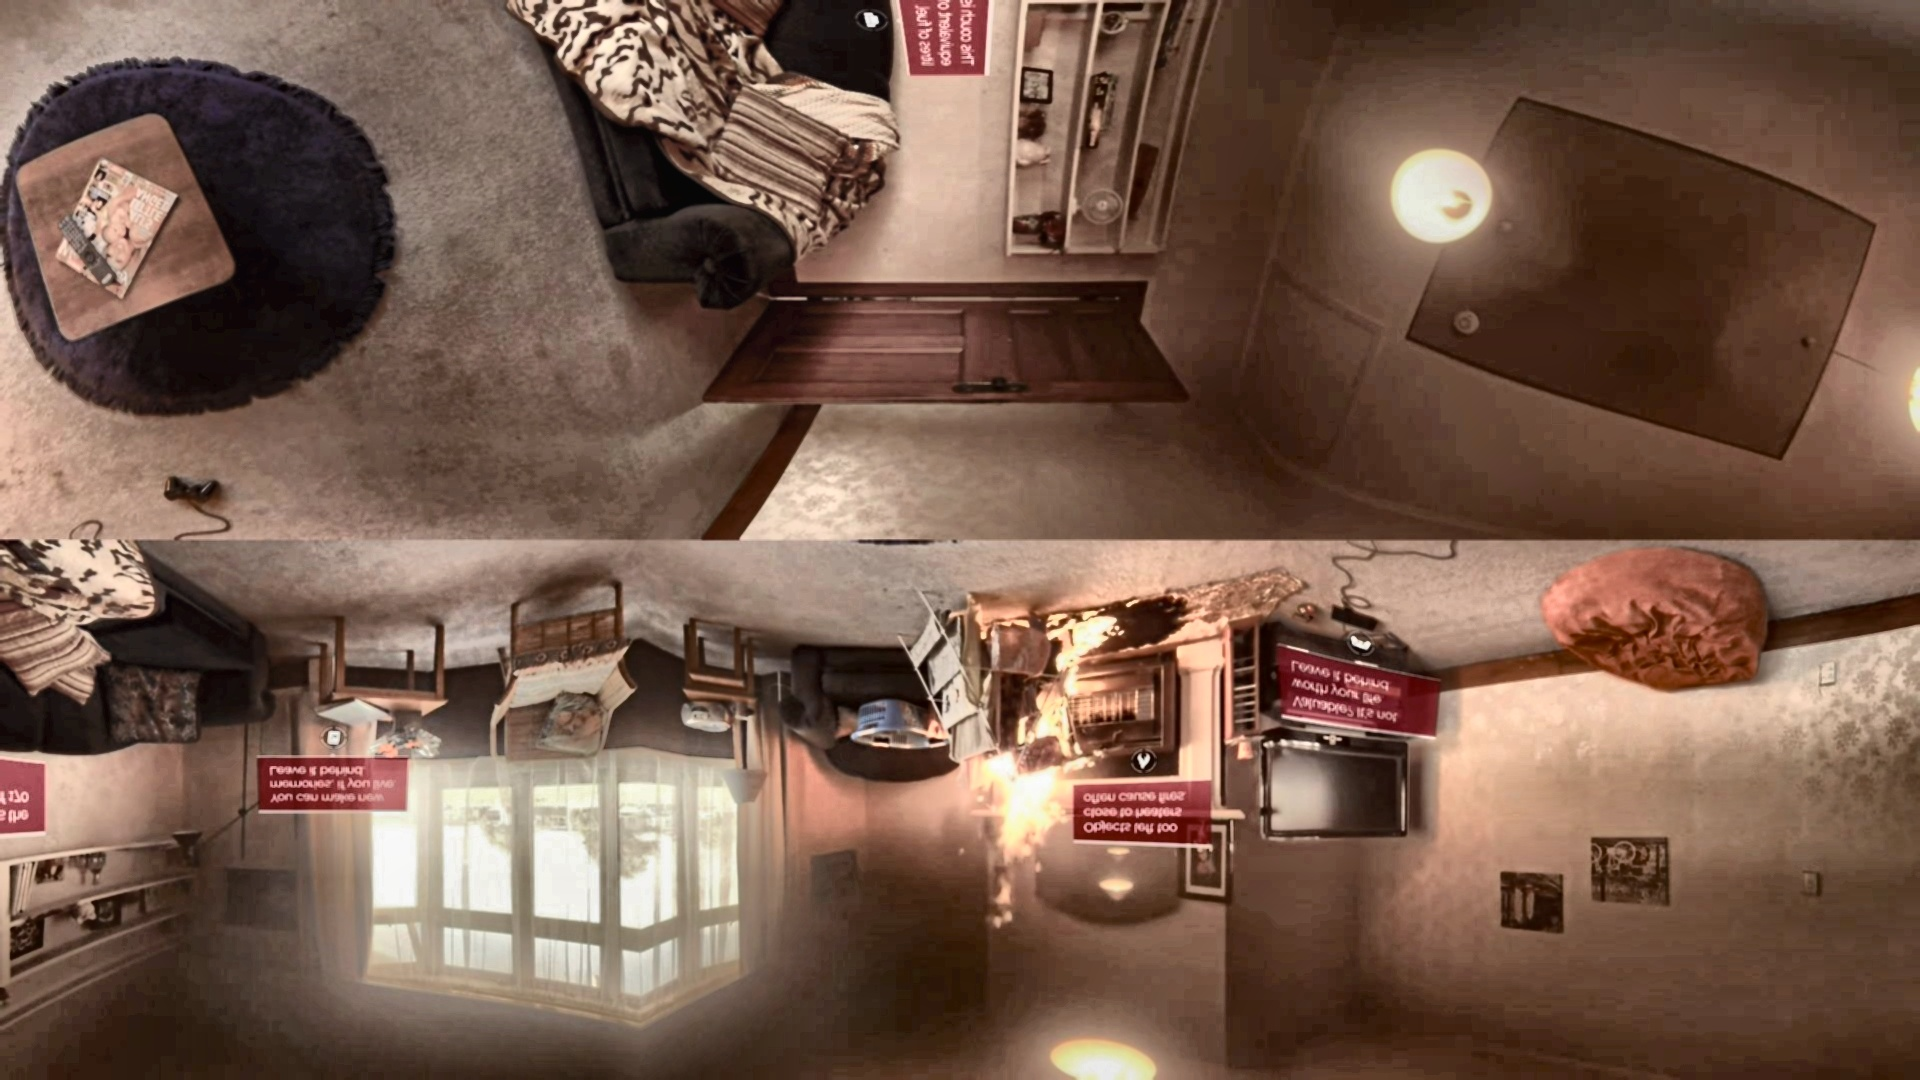fire: (940, 616, 1098, 894)
